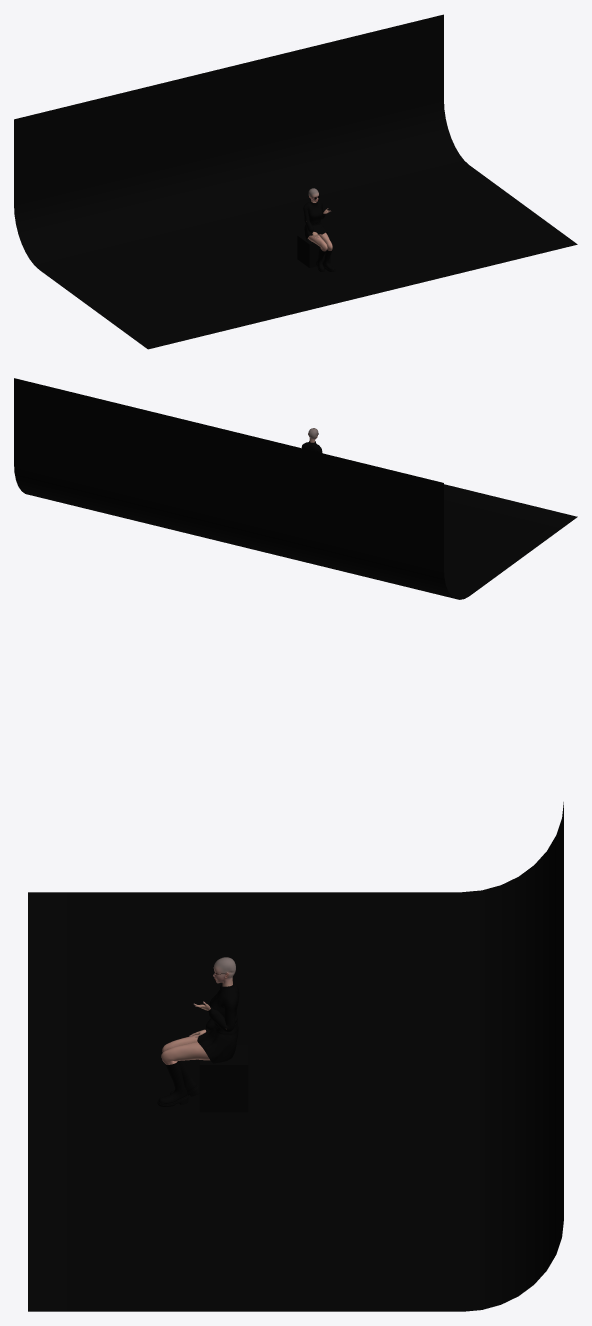
The model's file is vika_cad.glb.
3 renders of one model, top to bottom at view 1: azimuth 30°, elevation 25°; view 2: azimuth 150°, elevation 25°; view 3: azimuth 270°, elevation 25°, orthographic. The views are drawn at different scales.
Parts seen in each view (by area): view 1: Plane.001; view 2: Plane.001; view 3: Plane.001.
Boxes of the visible parts, x1,y1,x2,y2 form: Plane.001: (14,14,577,349); Plane.001: (14,378,577,599); Plane.001: (28,802,563,1311).
Size of the model in its own units: 7.91 by 2.33 by 4.27.
15 materials, 7 textured.
